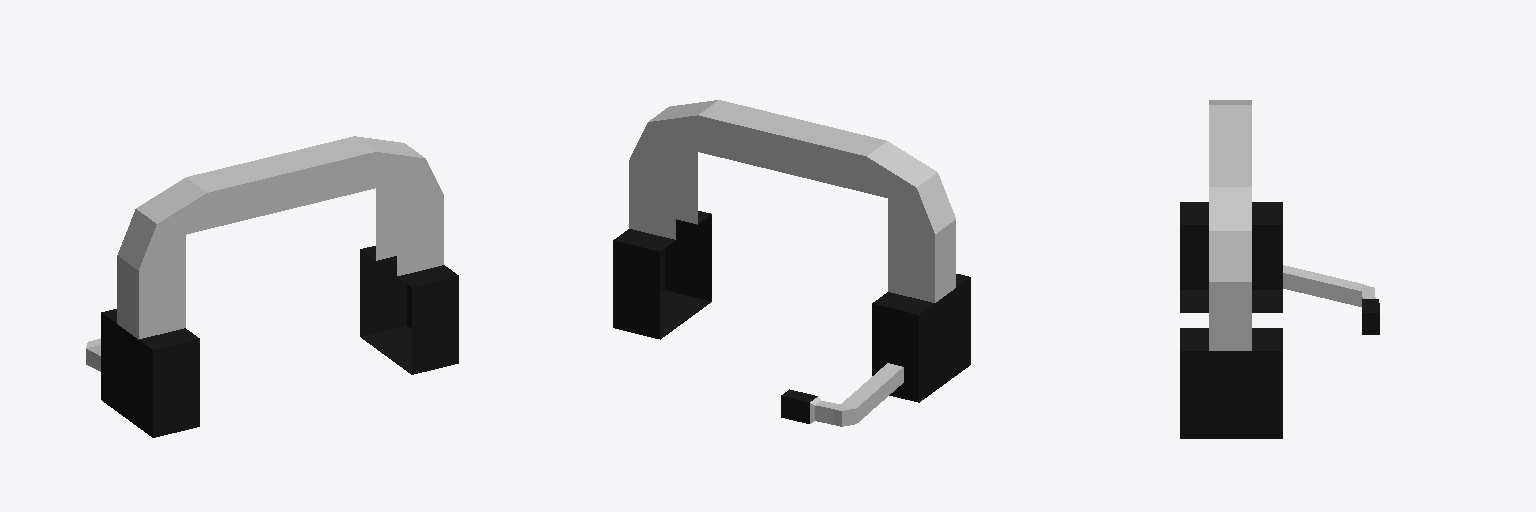
The model's file is headset.obj.
3 renders of one model, left to right at view 1: azimuth 30°, elevation 25°; view 2: azimuth 150°, elevation 25°; view 3: azimuth 270°, elevation 25°, orthographic.
Visible parts, largest first — view 1: Cube_Cube.001; view 2: Cube_Cube.001; view 3: Cube_Cube.001.
Part boxes in pixels (bbox=[...]): Cube_Cube.001: bbox=[86, 136, 458, 437]; Cube_Cube.001: bbox=[613, 100, 970, 426]; Cube_Cube.001: bbox=[1180, 100, 1379, 438].
Size of the model in its own units: 0.6047 by 0.4144 by 0.3427.